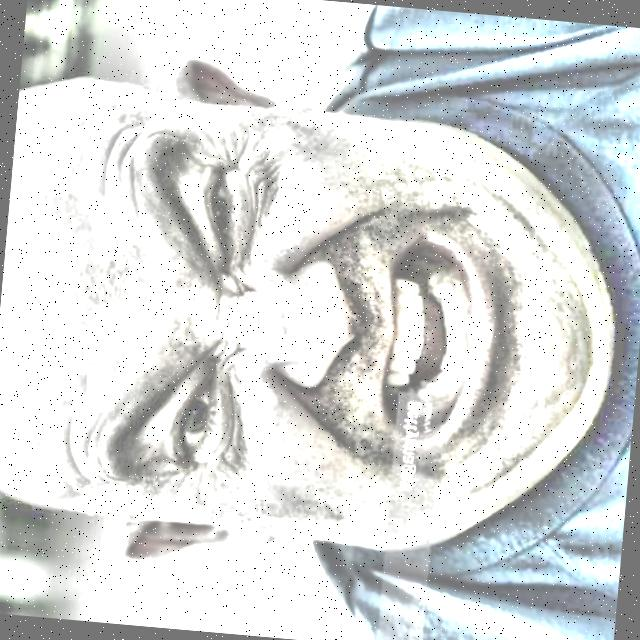angry: (0, 42, 621, 579)
